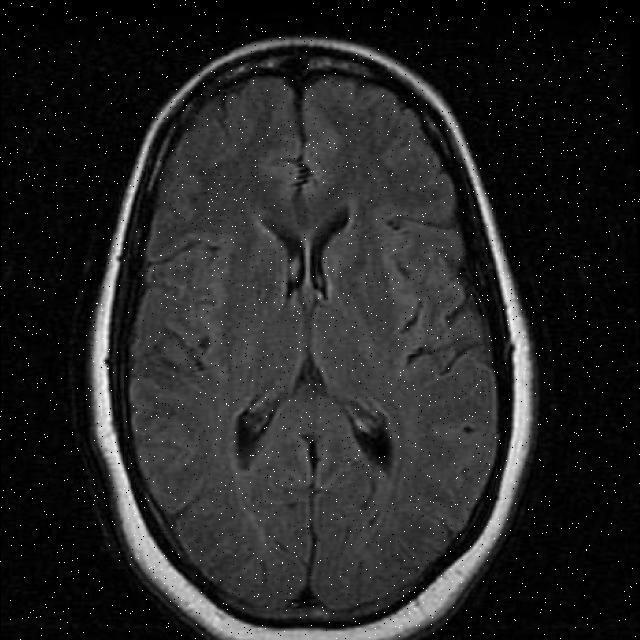No_Tumor: (91, 37, 534, 639)
